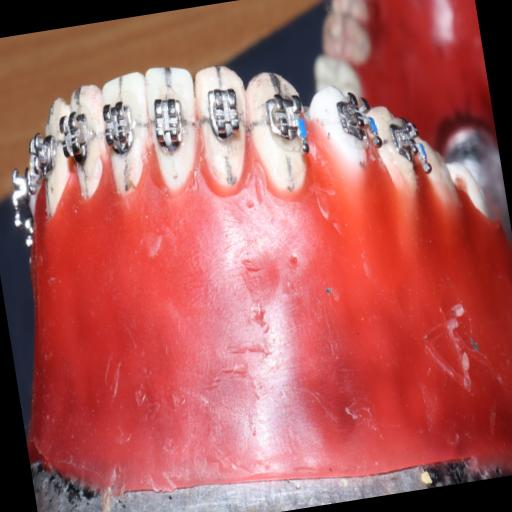correct_brace: (260, 88, 313, 162), (148, 92, 188, 152)
incorrect_brace: (186, 50, 264, 204), (201, 80, 248, 146)
